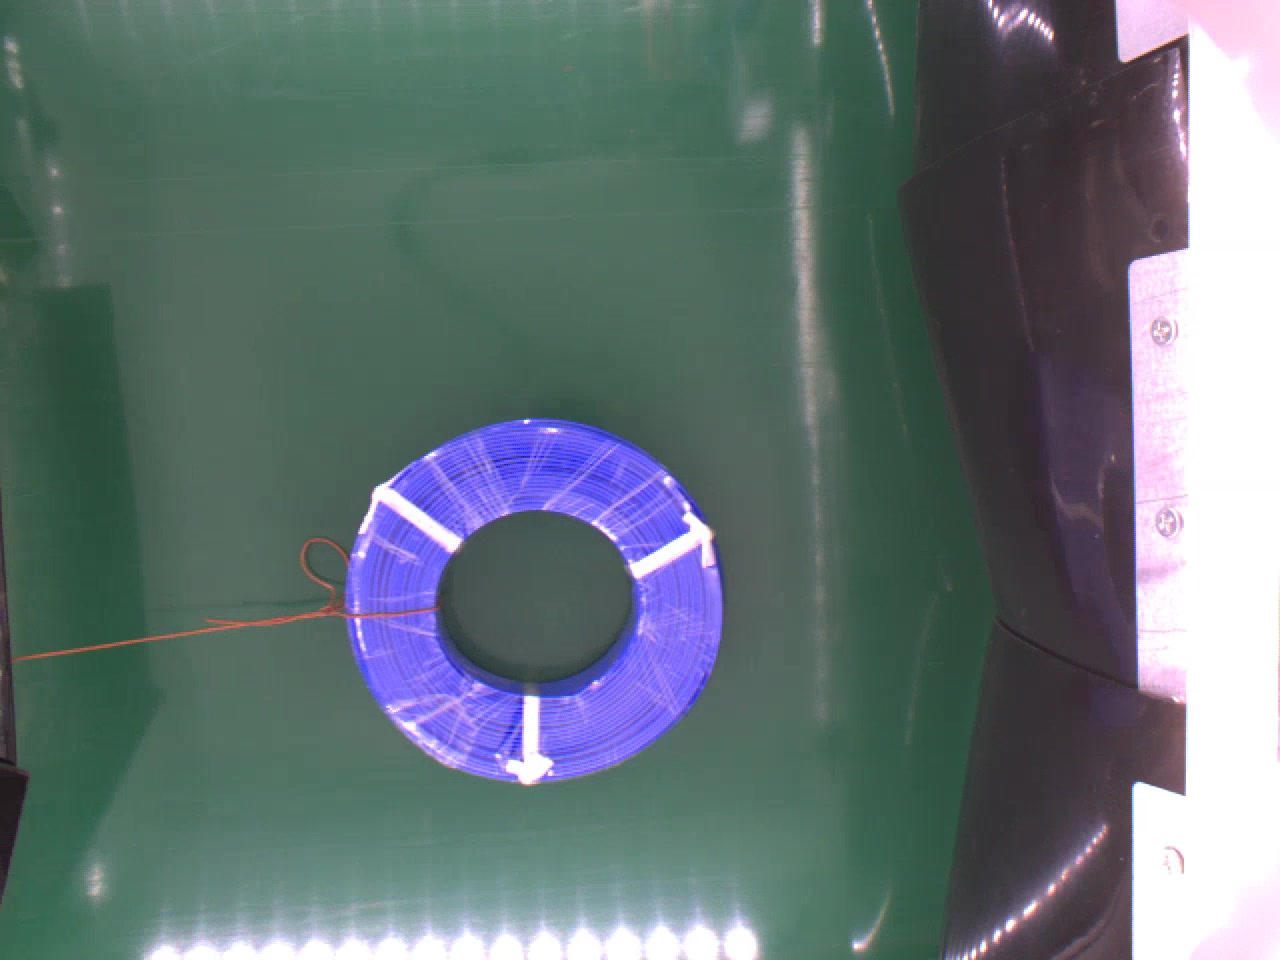blue: (337, 413, 731, 785)
